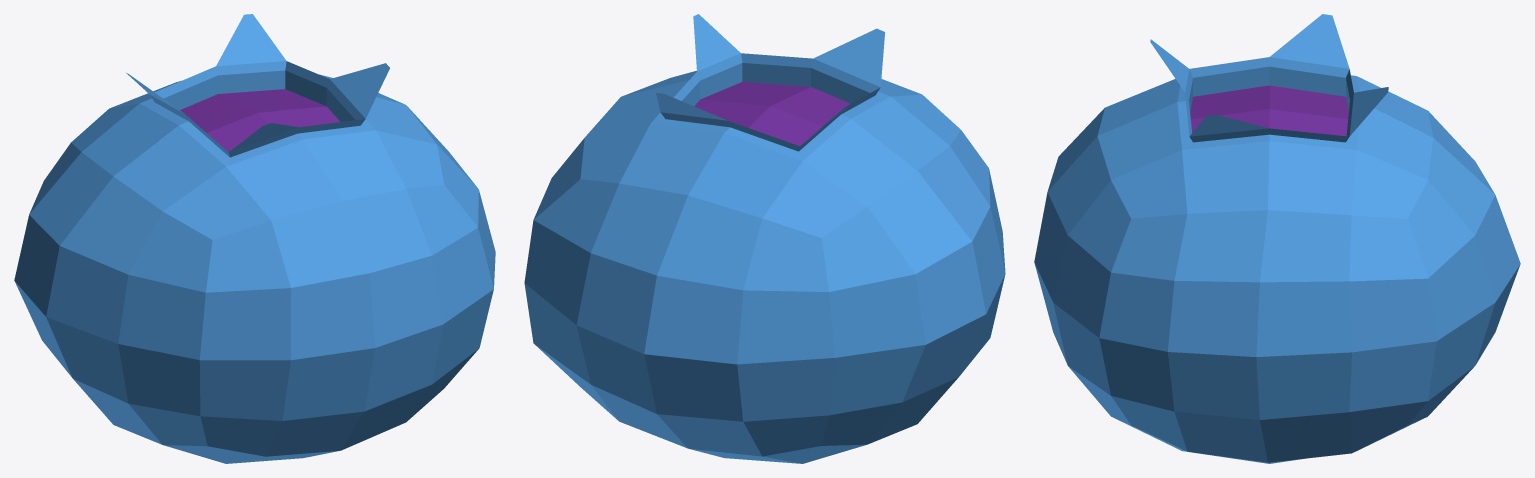
The model's file is blueberry.glb.
The picture shows the model from 3 angles, left to right: view 1: azimuth 30°, elevation 25°; view 2: azimuth 150°, elevation 25°; view 3: azimuth 270°, elevation 25°; orthographic projection.
Visible parts, largest first — view 1: BlueBerry; view 2: BlueBerry; view 3: BlueBerry.
Part boxes in pixels (bbox=[...]): BlueBerry: bbox=[14, 14, 495, 463]; BlueBerry: bbox=[524, 14, 1005, 463]; BlueBerry: bbox=[1034, 14, 1520, 463].
Bounding box in the file's own units: 1.75 × 1.49 × 1.76.
